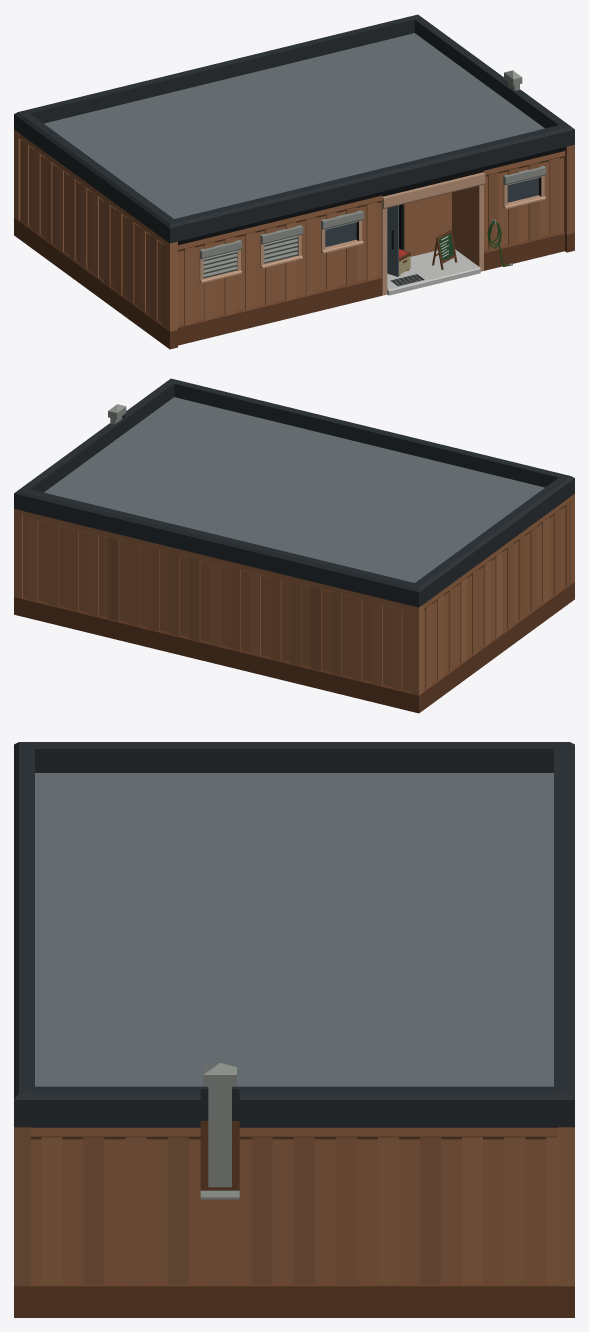
File: clubhouse.glb
The picture shows the model from 3 angles, top to bottom: view 1: azimuth 30°, elevation 25°; view 2: azimuth 150°, elevation 25°; view 3: azimuth 270°, elevation 25°; orthographic projection. The views are drawn at different scales.
Visible parts, largest first — view 1: clubhouse-shell; view 2: clubhouse-shell; view 3: clubhouse-shell.
Boxes of the visible parts, <box> form: clubhouse-shell: <box>14,14,574,349</box>; clubhouse-shell: <box>14,378,574,713</box>; clubhouse-shell: <box>14,742,574,1317</box>.
Size of the model in its own units: 12 by 3.95 by 8.
